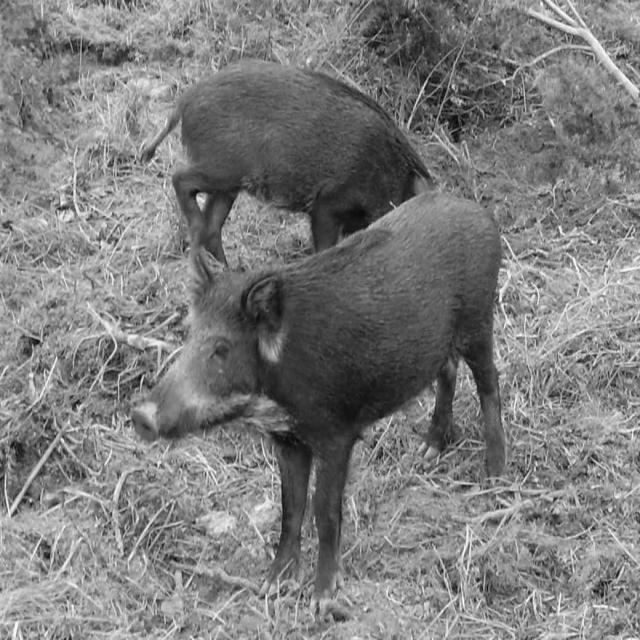boar: (131, 190, 508, 611), (140, 59, 432, 263)
